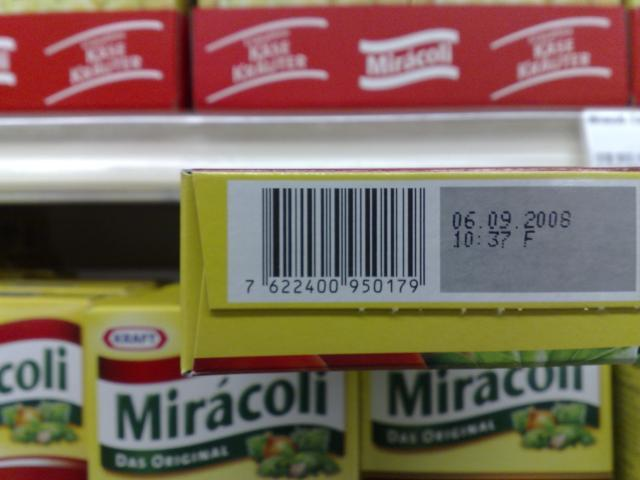Barcode: (228, 181, 437, 303)
